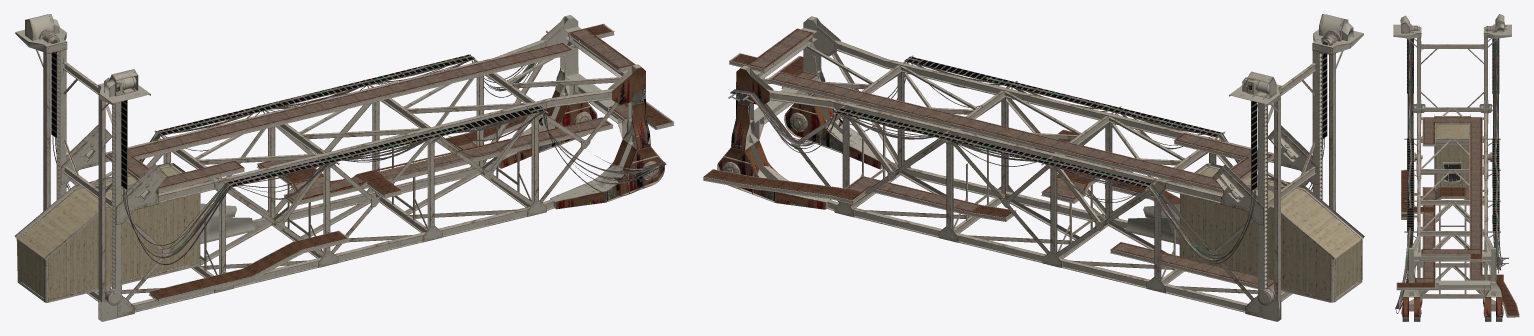
Rendered from bucket_excavator_arm.glb.
3 views of the same model, side by side, from view 1: azimuth 30°, elevation 25°; view 2: azimuth 150°, elevation 25°; view 3: azimuth 270°, elevation 25° (orthographic). The views are drawn at different scales.
Visible parts, largest first — view 1: bucket_excavator_arm_LOD0; view 2: bucket_excavator_arm_LOD0; view 3: bucket_excavator_arm_LOD0.
Boxes of the visible parts, <box> form: bucket_excavator_arm_LOD0: <box>15,14,674,321</box>; bucket_excavator_arm_LOD0: <box>703,14,1364,321</box>; bucket_excavator_arm_LOD0: <box>1393,14,1519,321</box>.
Bounding box in the file's own units: 53.78 × 21.8 × 16.17.
Materials: 11 (11 with a texture image).
